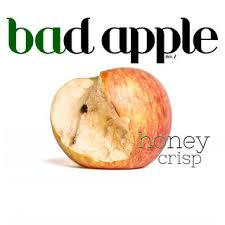damaged_apple: (49, 66, 176, 171)
